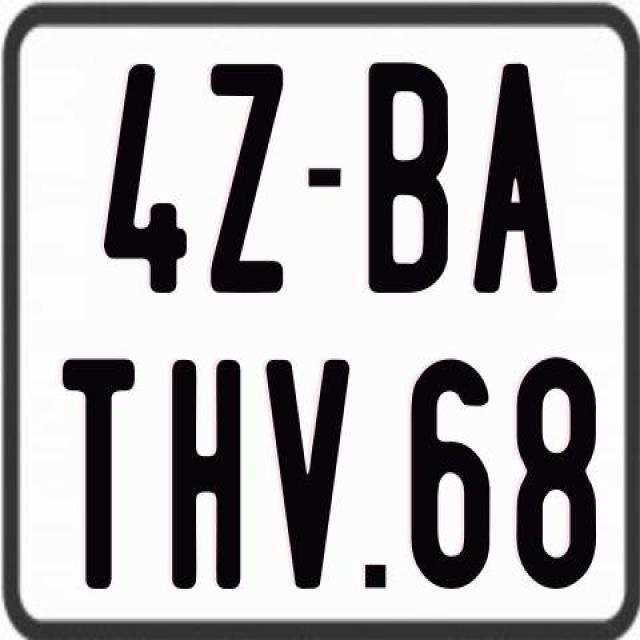4: (104, 61, 195, 294)
6: (407, 355, 492, 586)
8: (516, 352, 599, 586)
A: (472, 59, 563, 294)
B: (369, 58, 451, 288)
H: (171, 355, 241, 586)
T: (60, 356, 139, 590)
V: (265, 355, 355, 586)
Z: (206, 61, 282, 290)
